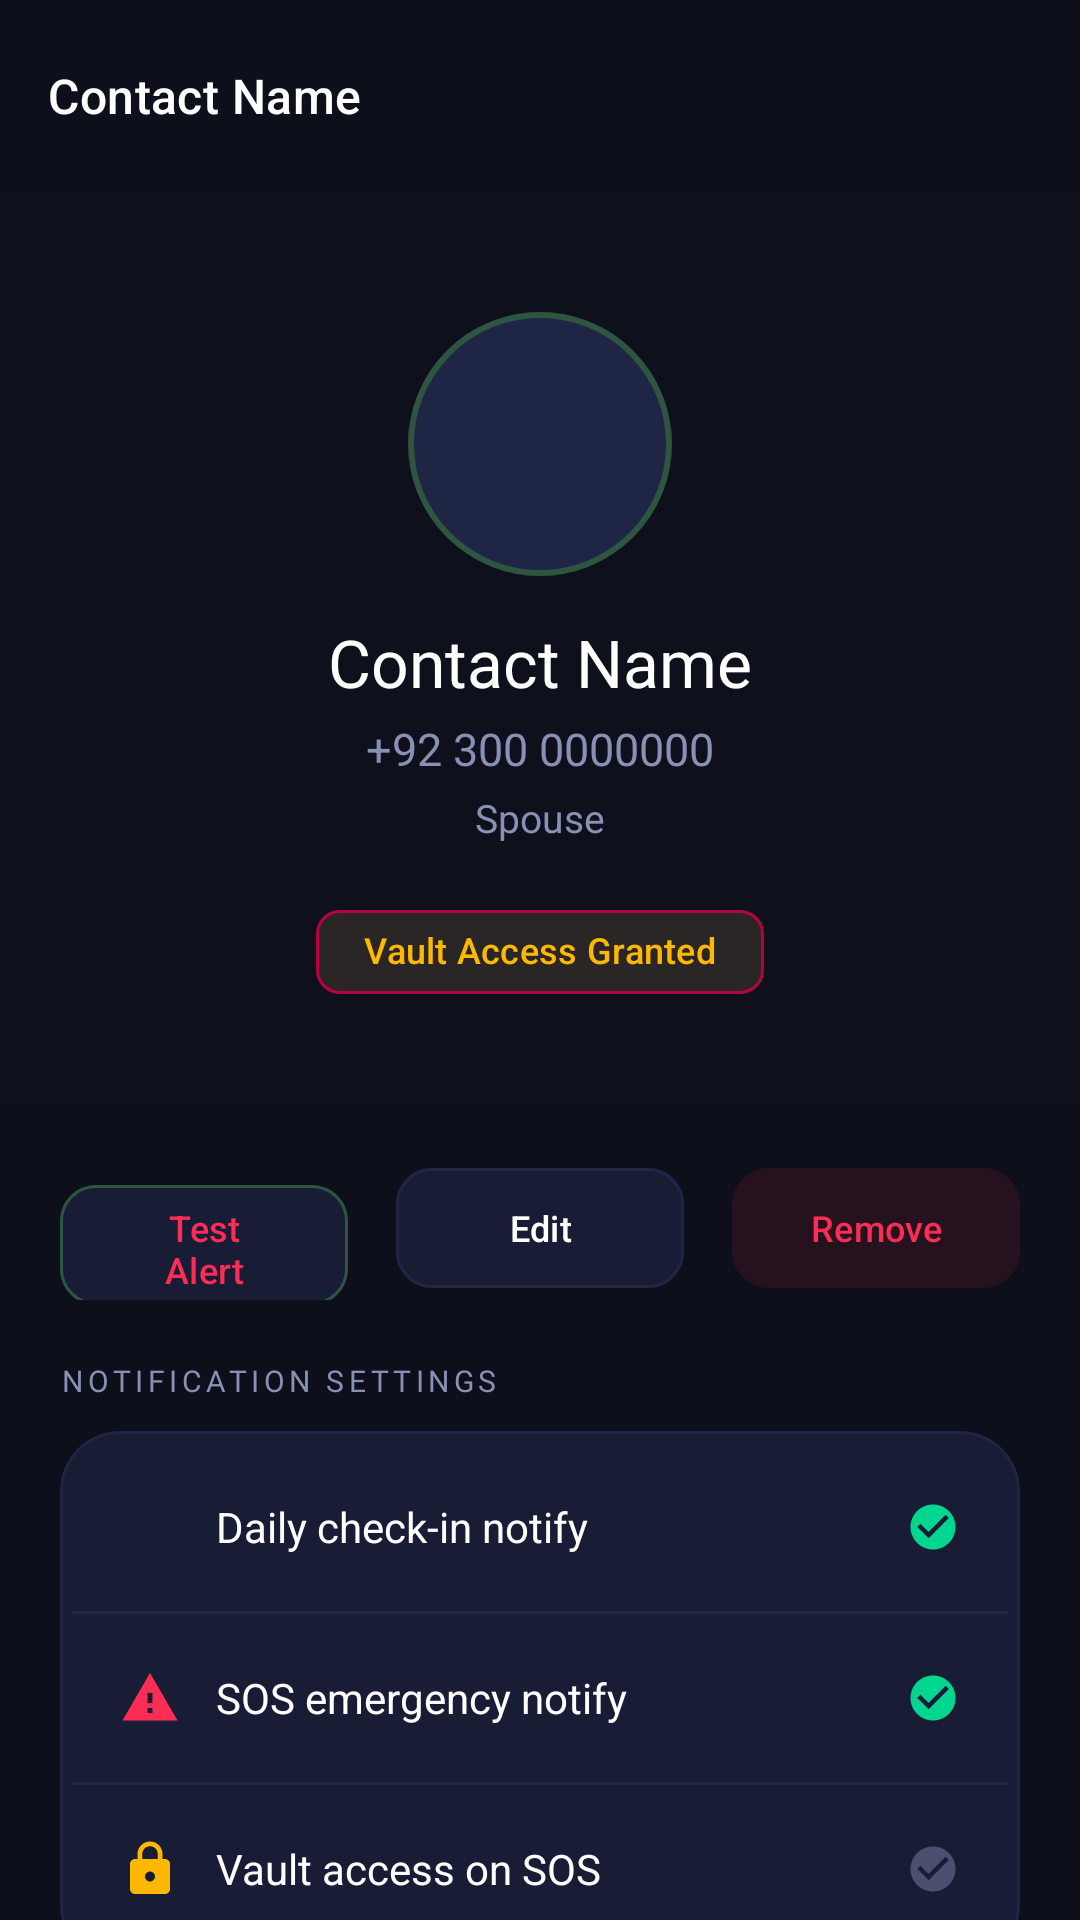

Screen size 1080 × 1920. Icon name, then its box in pixels as (x1, y1, x2, y2):
check circle: (910, 1504, 956, 1550), (910, 1675, 956, 1721), (910, 1846, 956, 1892)
sos alert: (122, 1673, 178, 1721)
vault lock: (130, 1841, 170, 1894)
